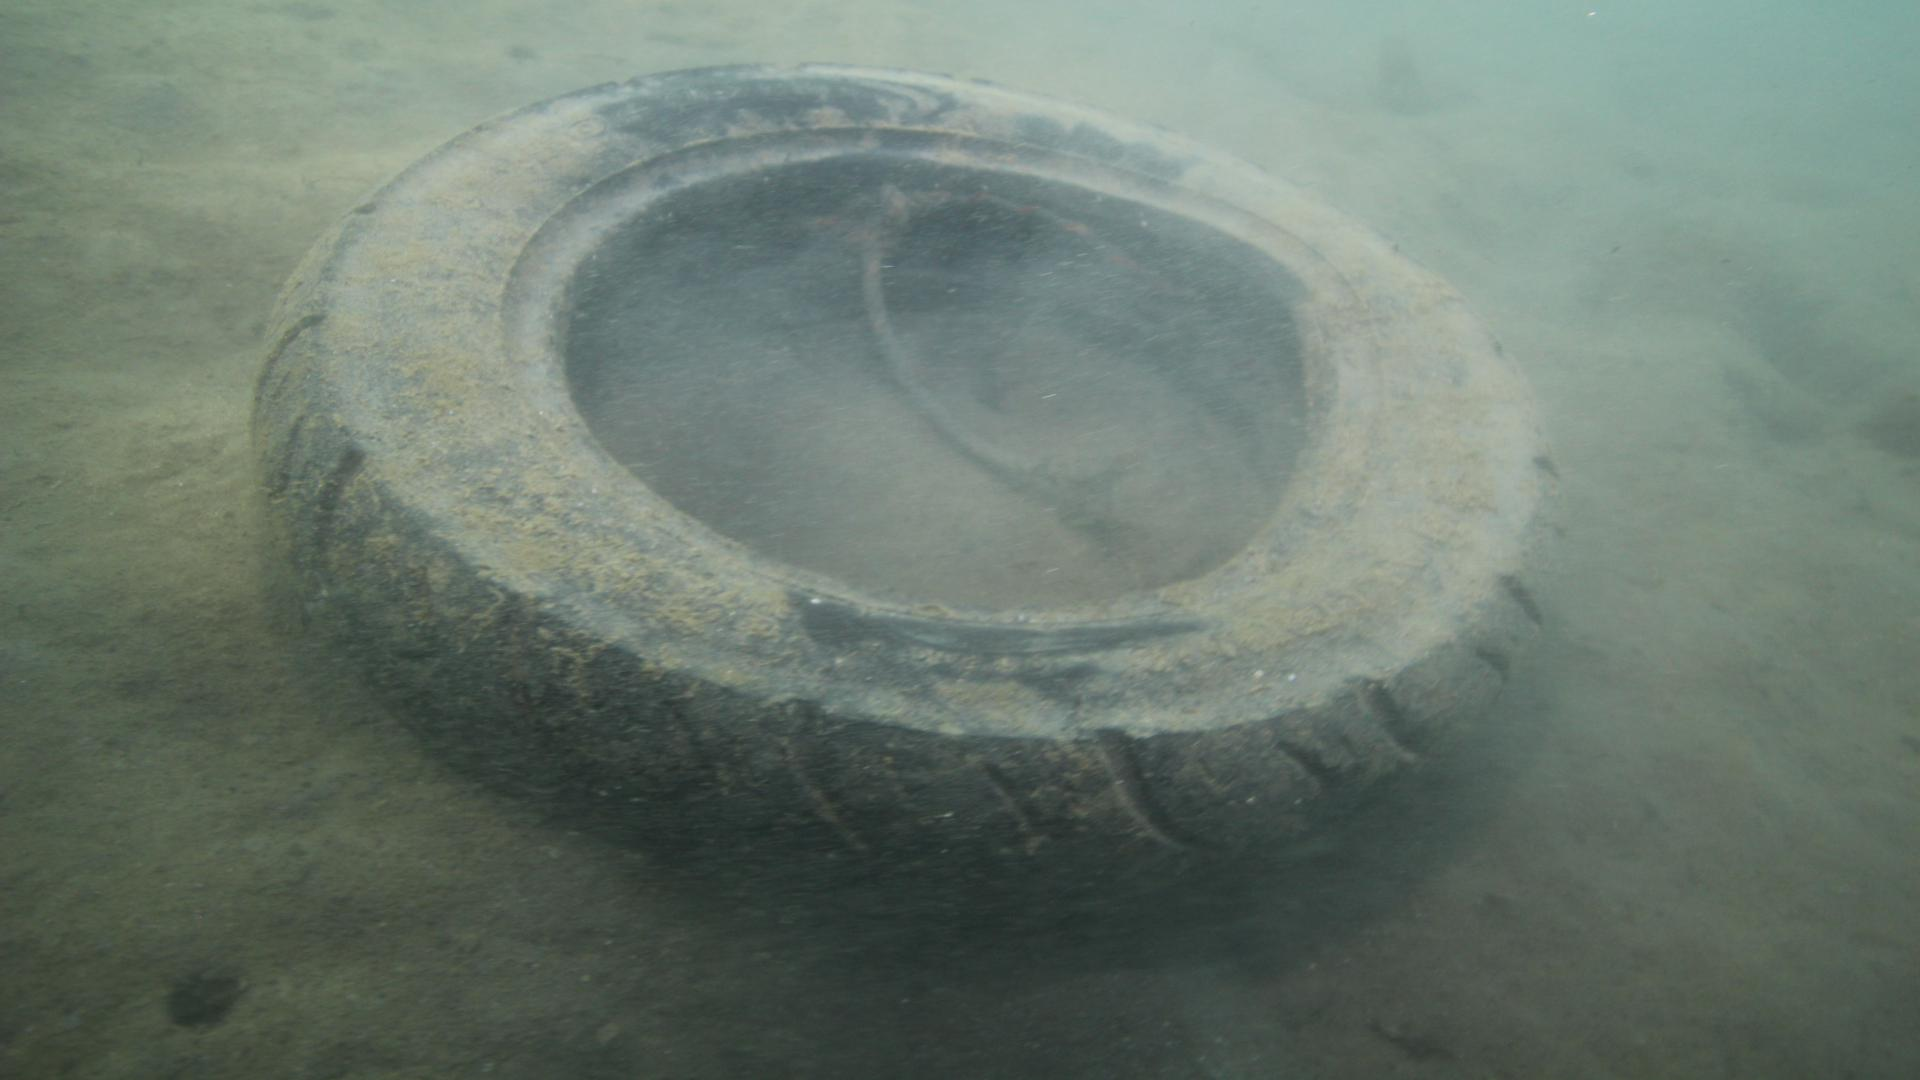rope: (858, 175, 1036, 487)
tire: (248, 61, 1571, 930)
